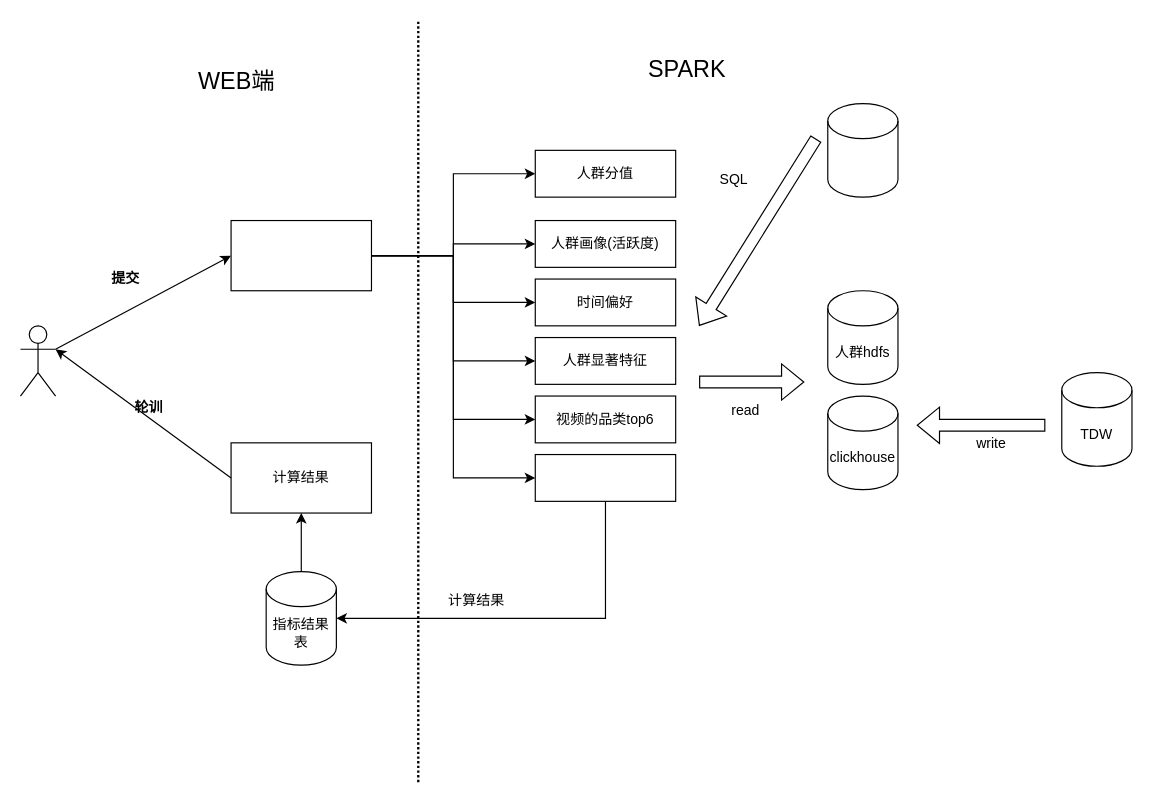
The diagram is 1152 pixels wide and 804 high, and some of its shapes have lost their labels. Here are the shapes that lost their labels. From the top down, the box of each, then its label:
(827, 102, 898, 197): 指标定义表
(230, 219, 371, 291): 计算Task
(19, 325, 56, 396): User
(534, 453, 676, 501): 片单top20
